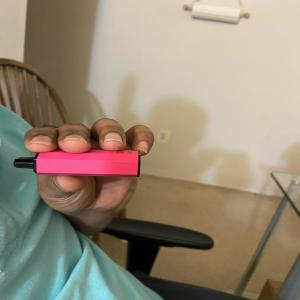Blume-E-Ciggirate: (9, 149, 146, 179)
